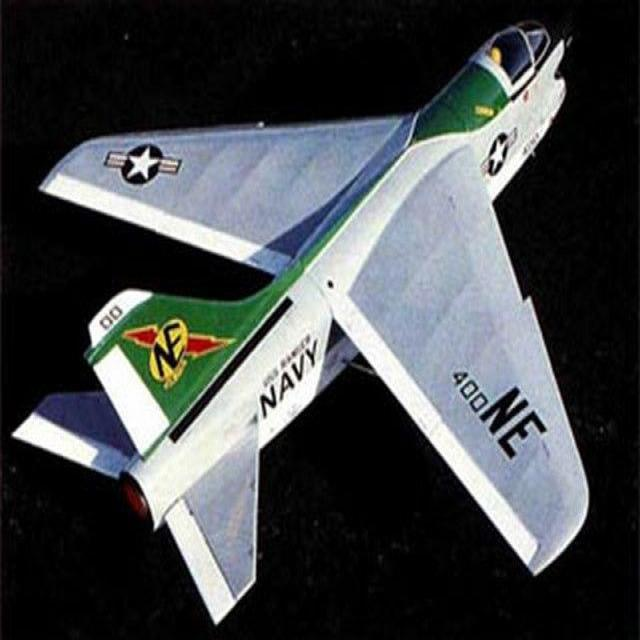iha: (12, 14, 588, 630)
